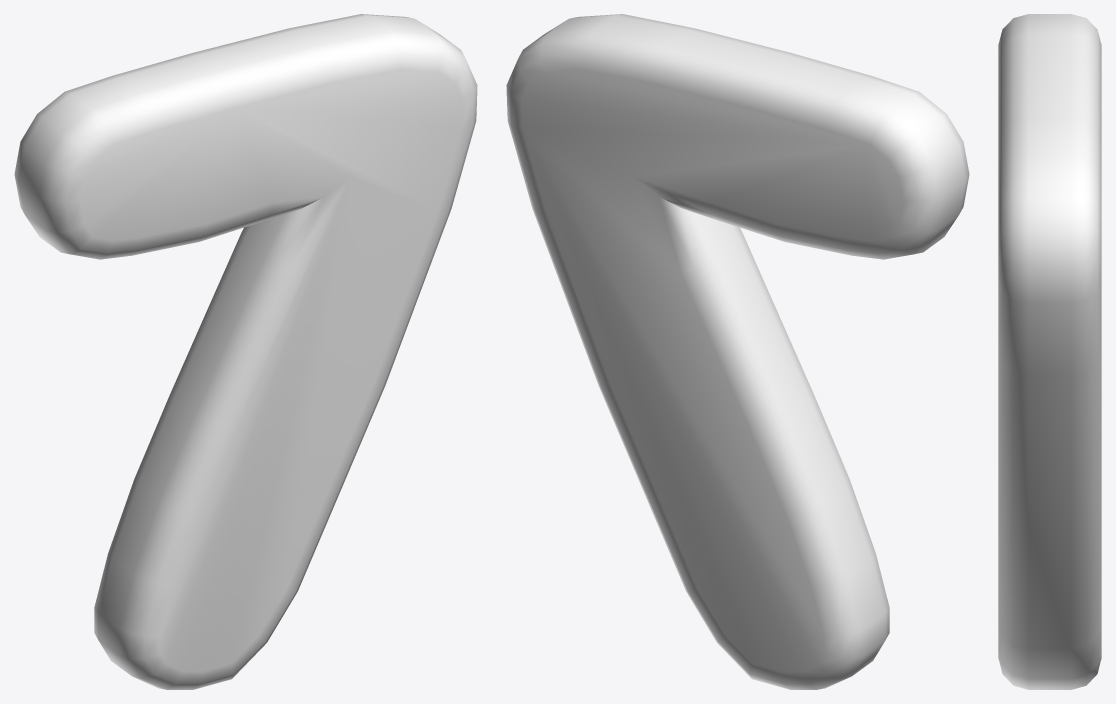
File: NumberSeven 2.fbx
The picture shows the model from 3 angles, left to right: view 1: azimuth 30°, elevation 25°; view 2: azimuth 150°, elevation 25°; view 3: azimuth 270°, elevation 25°; orthographic projection.
Parts seen in each view (by area): view 1: Vert.023; view 2: Vert.023; view 3: Vert.023.
Part boxes in pixels (left/top/right/bottom): Vert.023: left=14, top=14, right=477, bottom=689; Vert.023: left=506, top=14, right=969, bottom=689; Vert.023: left=998, top=14, right=1101, bottom=689.
Bounding box in the file's own units: 344 × 462 × 69.56.
